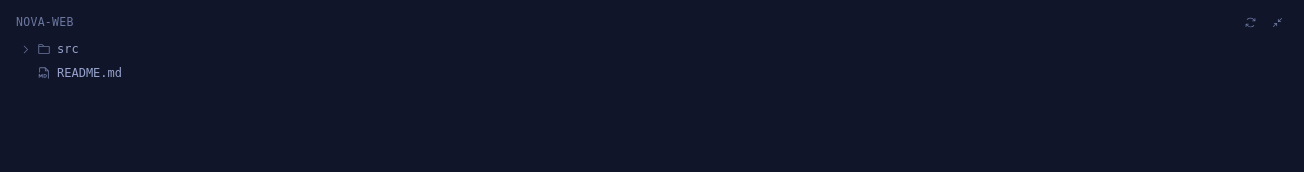
Test case: ExplorerPanel — the tree › does not read a directory until it is expanded
Expected: the text "README.md" is shown, [57,64,122,82]
Click the button "src": x=26, y=49 [12,37,1292,61]
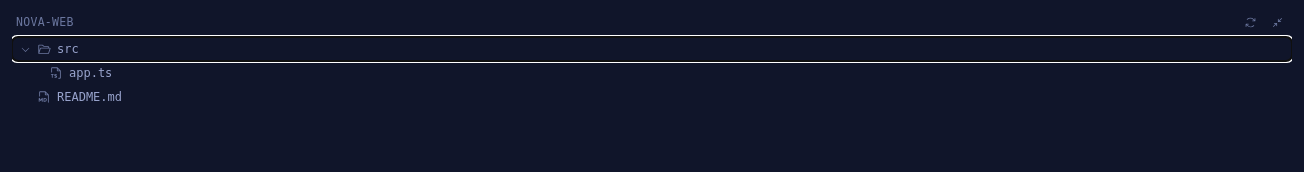
Expected: the text "app.ts" is shown, [69,64,112,82]
